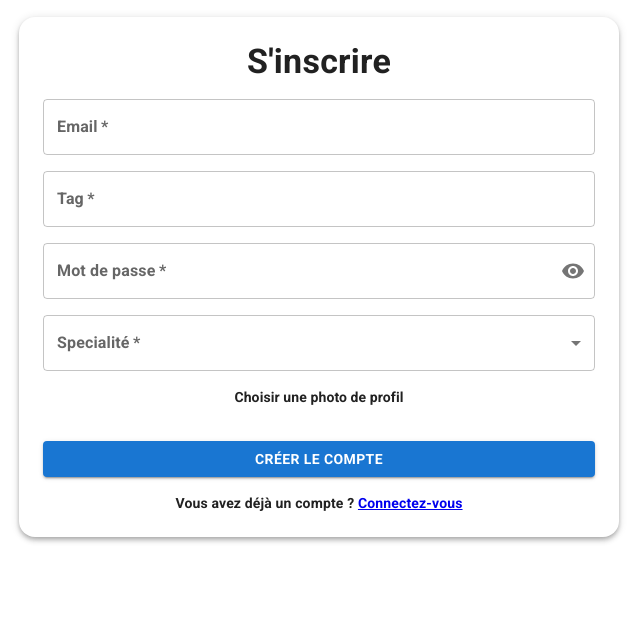
it: RegisterPage › shows an error and does not submit when no avatar is available
This screenshot has width=639, height=624.
Step 1. Type "lea@mail.com" into the field labelled "Email *" → (319, 127), box x1=43 y1=99 x2=595 y2=155
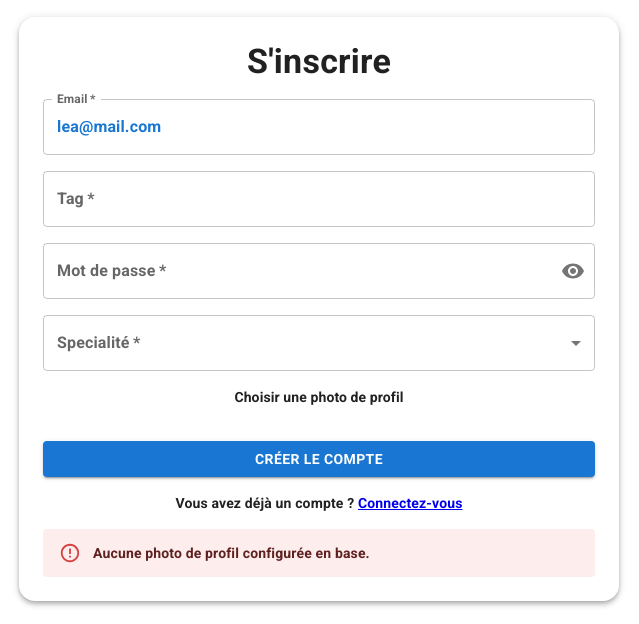
Step 2. Type "lea" into the field labelled "Tag *" → (319, 199), box x1=43 y1=171 x2=595 y2=227
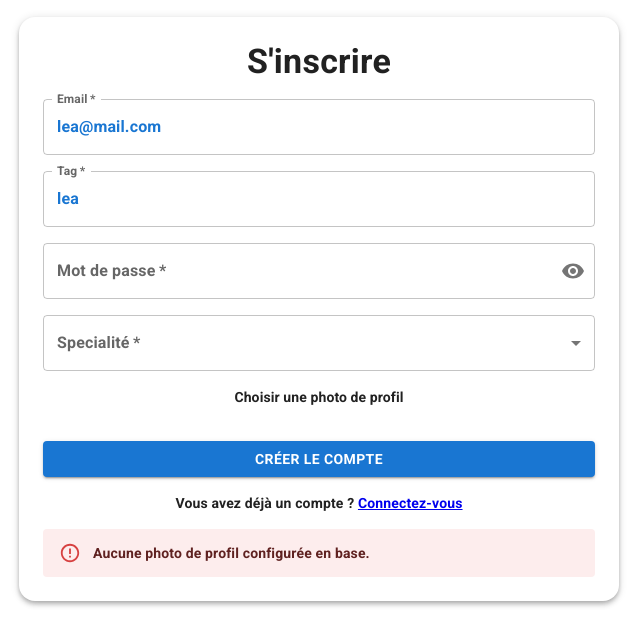
Step 3. Type "Password123" into the password field labelled "Mot de passe *" → (294, 271), box x1=43 y1=243 x2=545 y2=299
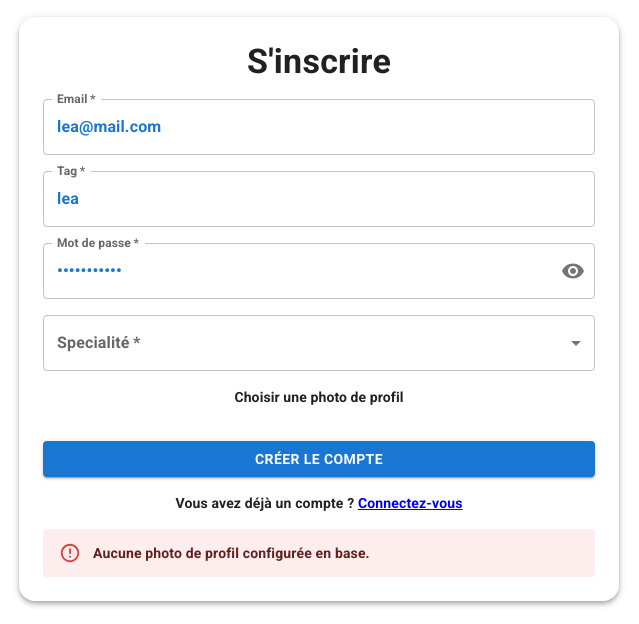
Step 4. Press the mouse on the dropdown → (319, 343), box x1=43 y1=315 x2=595 y2=371
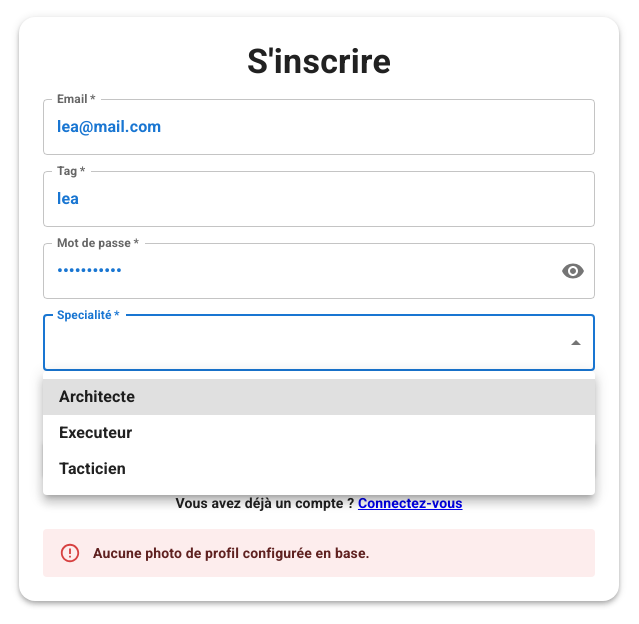
Step 5. Click the option "Architecte" → (97, 396), box x1=43 y1=379 x2=595 y2=415
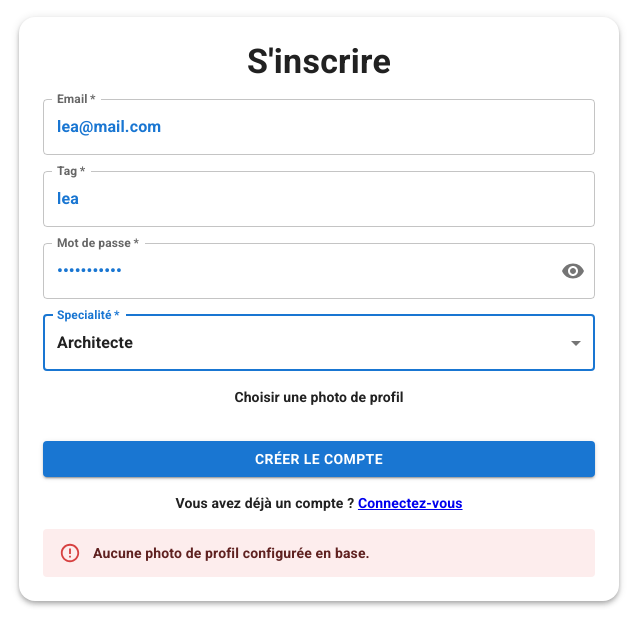
Step 6. Submit the form, box x1=43 y1=99 x2=595 y2=478
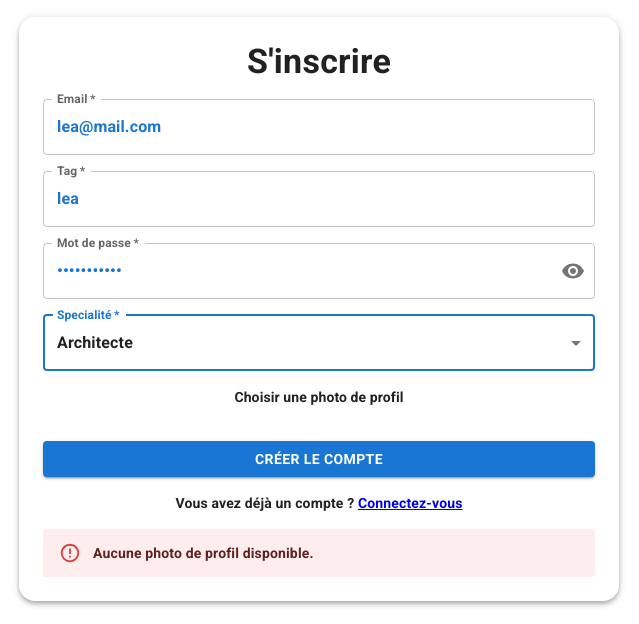
Expected: the text "Aucune photo de profil disponible." is shown, x1=93 y1=546 x2=314 y2=562
